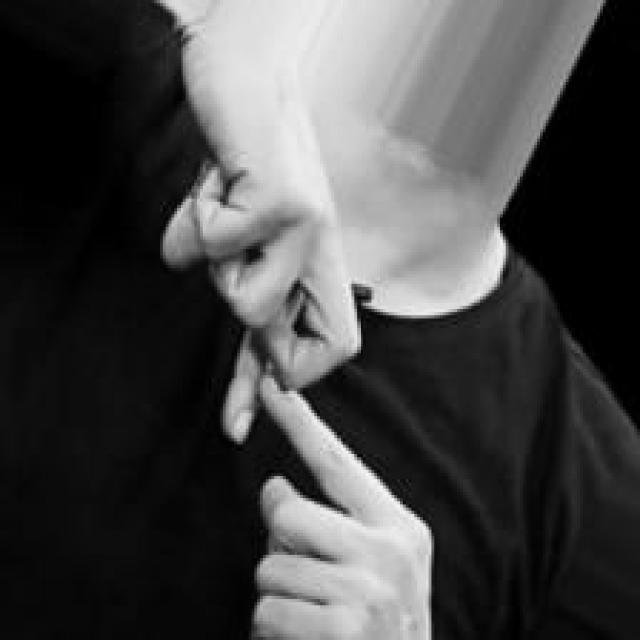R: (157, 129, 452, 640)
